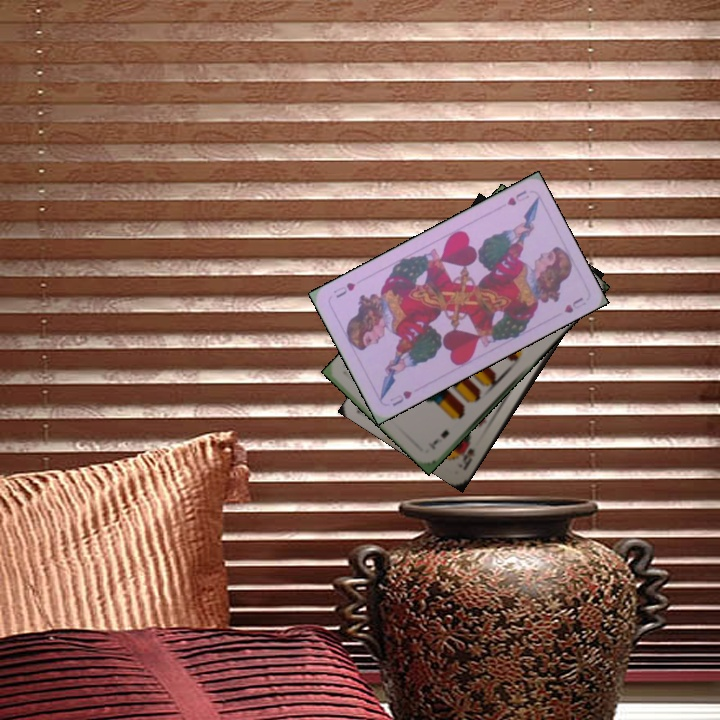E7: (425, 425, 452, 452)
HU: (386, 386, 415, 409), (503, 186, 532, 208)
SK: (457, 438, 478, 473)
